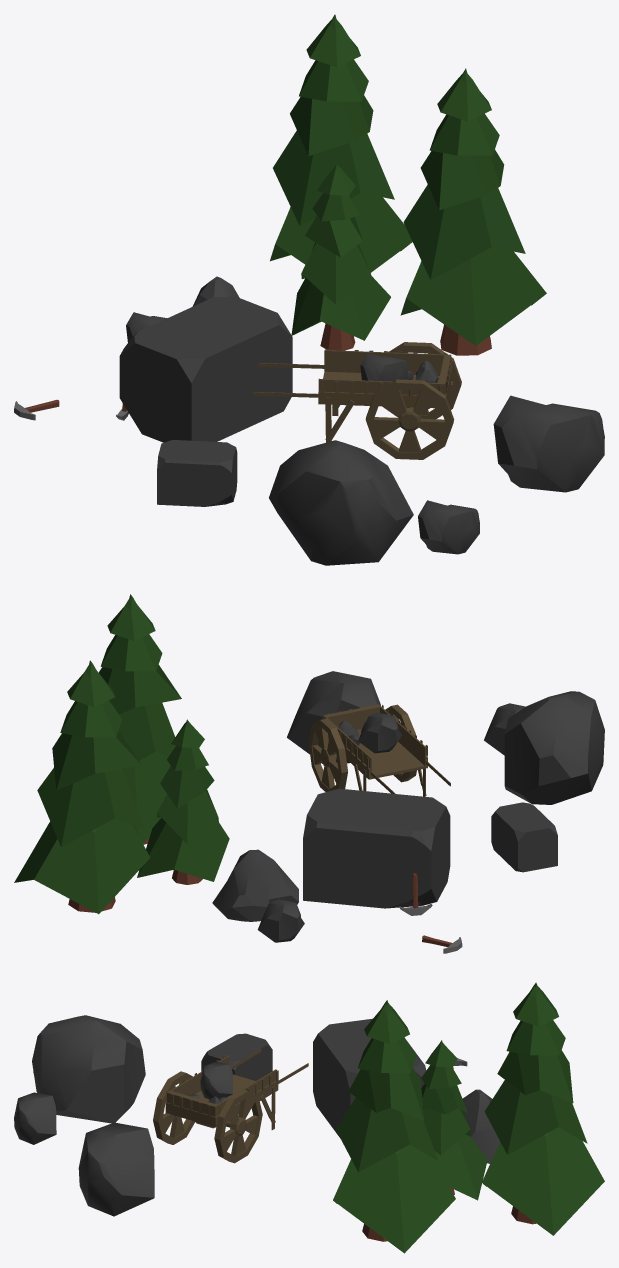
The model's file is QuarryLVL1.fbx.
3 views of the same model, one above another, from view 1: azimuth 30°, elevation 25°; view 2: azimuth 150°, elevation 25°; view 3: azimuth 270°, elevation 25° (orthographic). The views are drawn at different scales.
Parts seen in each view (by area): view 1: ель.004, Cube.010, ель.001, Cube, Cube.004, ель.003, Cube.005, Cube.011, Cube.003, Cube.009; view 2: ель.001, Cube.010, ель.004, Cube, ель.003, Cube.004, Cube.002, Cube.011, Cube.005, Cube.001, Cube.009, Cube.003; view 3: ель.001, ель.004, Cube, Cube.004, Cube.005, ель.003, Cube.010, Cube.011, Cube.003, Cube.002, Cube.009.
Part boxes in pixels (x1,y1,x2,y2): ель.004: (400, 68, 546, 355); Cube.010: (119, 296, 292, 442); ель.001: (270, 14, 412, 272); Cube: (269, 440, 413, 565); Cube.004: (252, 342, 461, 459); ель.003: (291, 163, 390, 350); Cube.005: (493, 395, 604, 492); Cube.011: (157, 440, 237, 506); Cube.003: (418, 500, 479, 554); Cube.009: (360, 353, 407, 381); ель.001: (14, 660, 150, 914); Cube.010: (303, 788, 450, 908); ель.004: (98, 594, 181, 844); Cube: (504, 691, 604, 804); ель.003: (137, 719, 229, 884); Cube.004: (308, 704, 450, 796); Cube.002: (212, 849, 298, 921); Cube.011: (491, 802, 557, 872); Cube.005: (287, 671, 380, 763); Cube.001: (257, 899, 304, 942); Cube.009: (358, 712, 402, 753); Cube.003: (484, 703, 525, 755); ель.001: (482, 982, 604, 1235); ель.004: (333, 1000, 455, 1253); Cube: (32, 1015, 145, 1123); Cube.004: (153, 1049, 308, 1163); Cube.005: (78, 1122, 154, 1216); ель.003: (421, 1040, 487, 1200); Cube.010: (313, 1018, 426, 1137); Cube.011: (201, 1033, 272, 1080); Cube.003: (14, 1092, 56, 1144); Cube.002: (462, 1089, 499, 1163); Cube.009: (200, 1061, 232, 1099).
Size of the model in its own units: 615 by 332 by 766.
